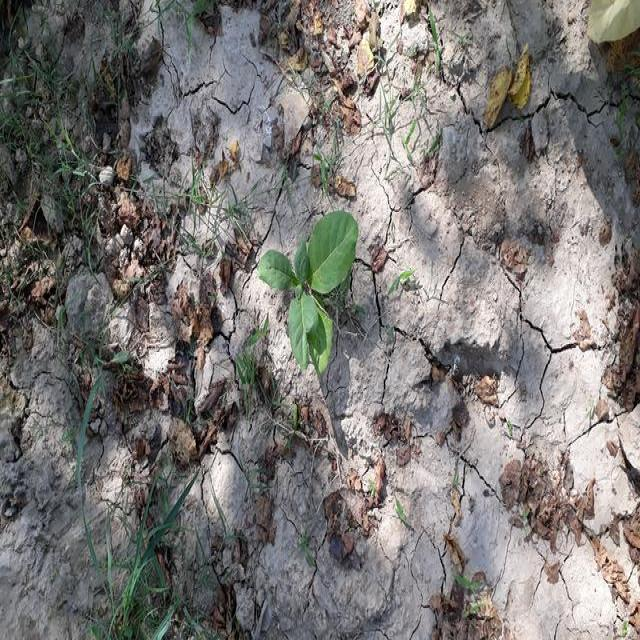crop: (256, 199, 358, 372)
